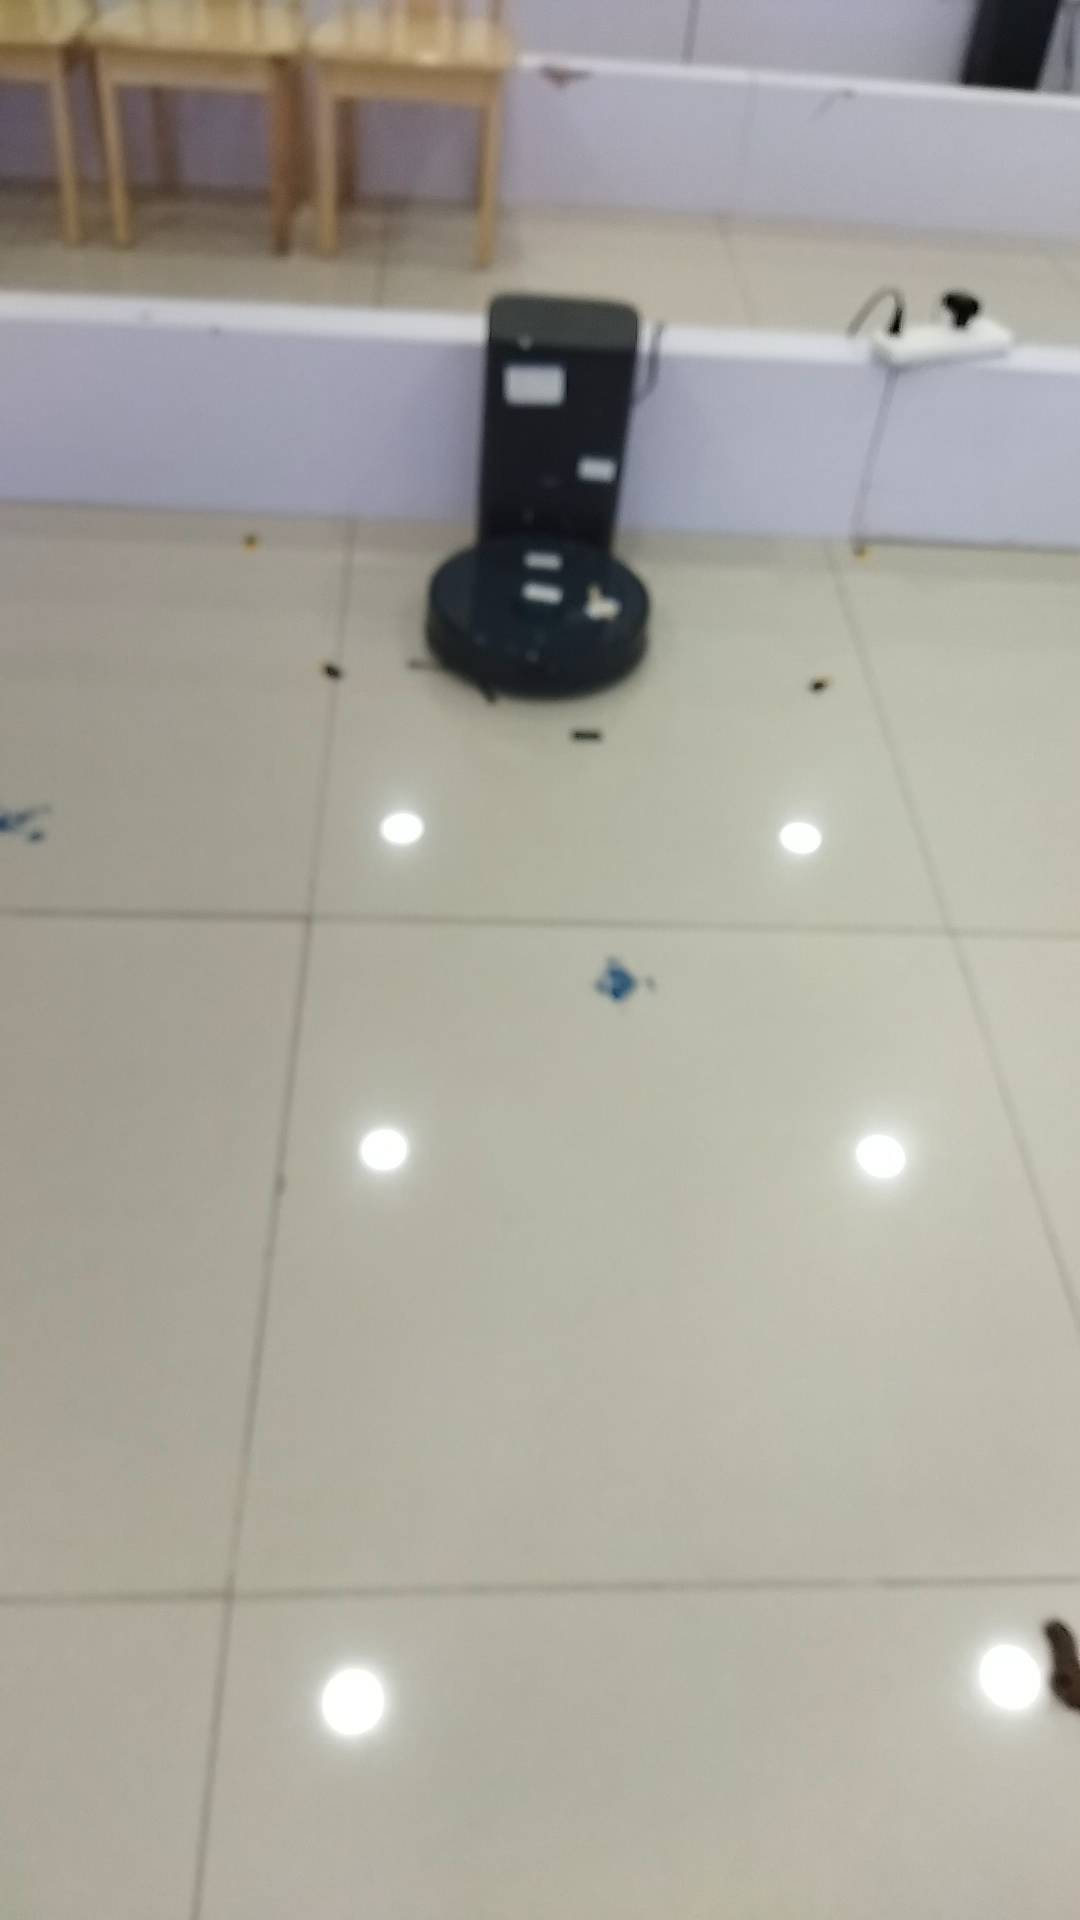dust collecting barrel: (479, 291, 640, 558)
